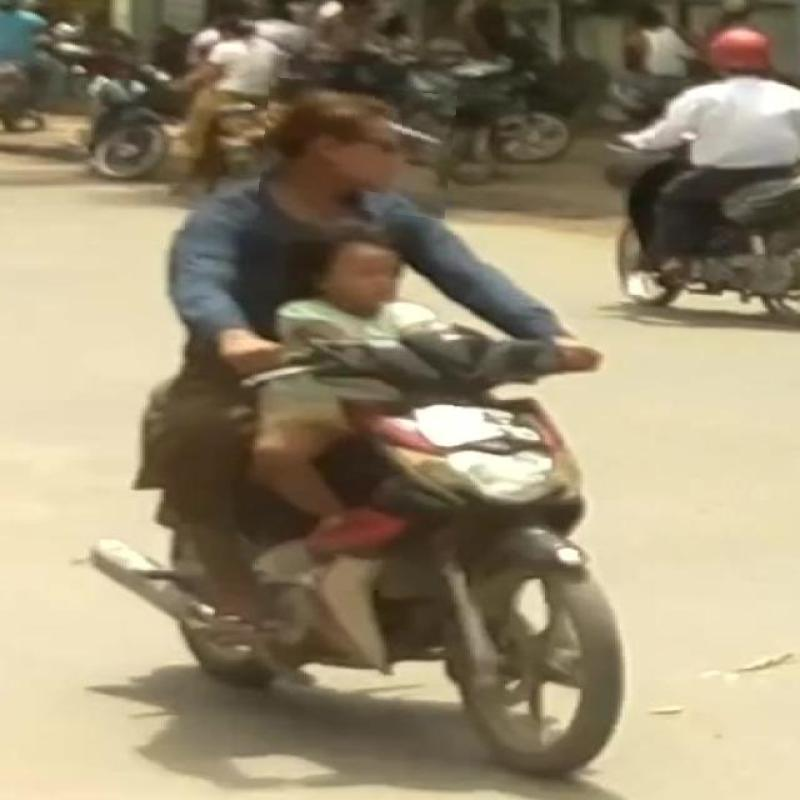nohelmet: (262, 81, 454, 215)
